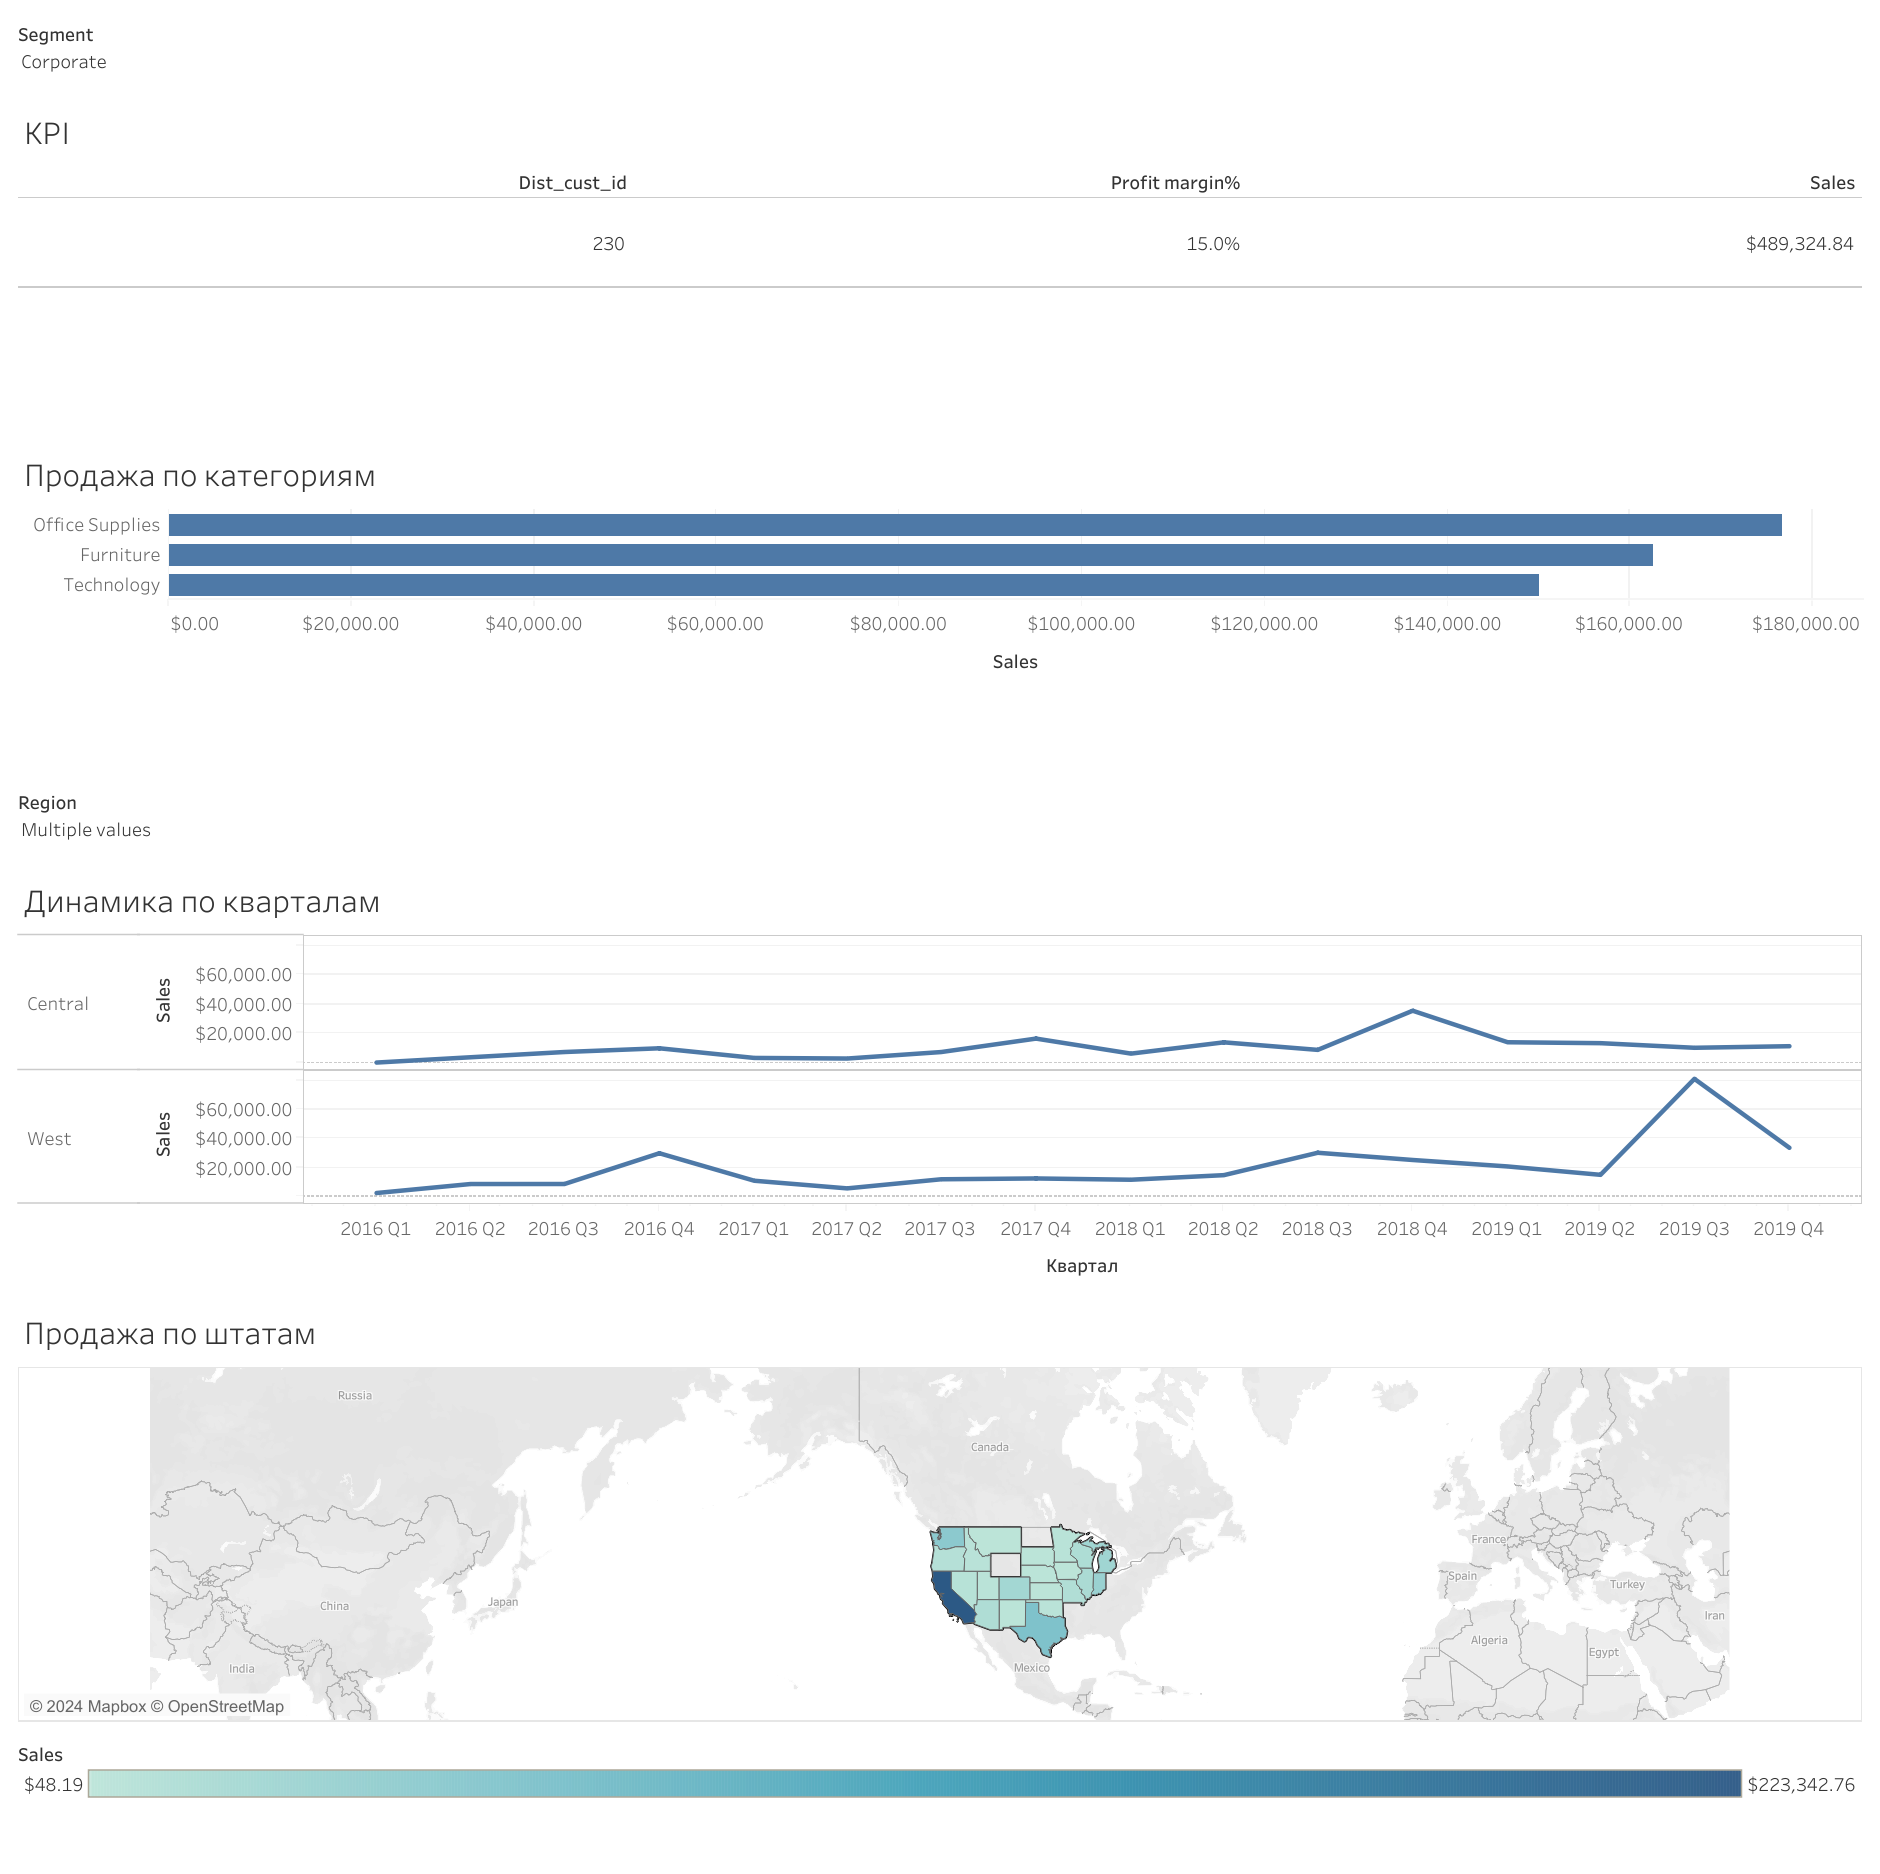

The dashboard page shown, as its layout file describes it:
{"tool":"tableau","page":{"name":"Dashboard 1","canvas":[1200,800],"ordinal":0},"visuals":[{"type":"worksheet","title":"Sheet 2","mark":"Automatic","box":[8,8,512,228]},{"type":"worksheet","title":"Sheet 3","mark":"Automatic","rows":["Category"],"cols":["Sales"],"box":[520,8,512,228]},{"type":"legend","title":"Sheet 5","param":"[federated.1u8nbog05cbxwy180nwlp1g81ry3].[sum:Sales:qk]","box":[1032,8,160,81]},{"type":"filter","title":"Sheet 4","param":"[federated.1u8nbog05cbxwy180nwlp1g81ry3].[none:Region:nk]","box":[1032,89,160,175]},{"type":"worksheet","title":"Sheet 4","mark":"Automatic","rows":["Region","Sales"],"cols":["Order Date"],"box":[8,236,512,556]},{"type":"worksheet","title":"Sheet 5","mark":"Automatic","box":[520,236,512,556]},{"type":"filter","title":"Sheet 2","param":"[federated.1u8nbog05cbxwy180nwlp1g81ry3].[none:Segment:nk]","box":[1032,264,160,148]}]}

Visuals, with their boxes in screenshot pixels (x1, y1, x2, y2):
"Sheet 2" worksheet: (164,193,927,533)
"Sheet 3" worksheet: (927,193,1690,533)
"Sheet 5" legend: (1690,193,1879,314)
"Sheet 4" filter: (1690,314,1879,575)
"Sheet 4" worksheet: (164,533,927,1361)
"Sheet 5" worksheet: (927,533,1690,1361)
"Sheet 2" filter: (1690,575,1879,795)
